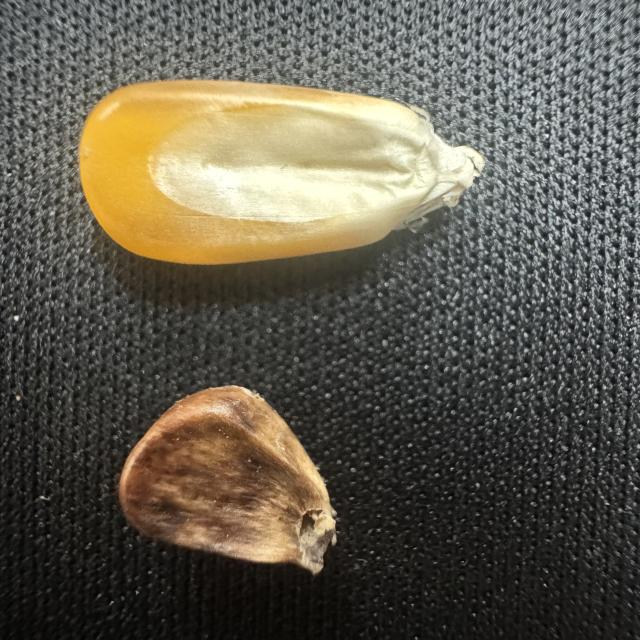Bad-Seed: (104, 372, 352, 593)
Good-Seed: (64, 65, 492, 272)
